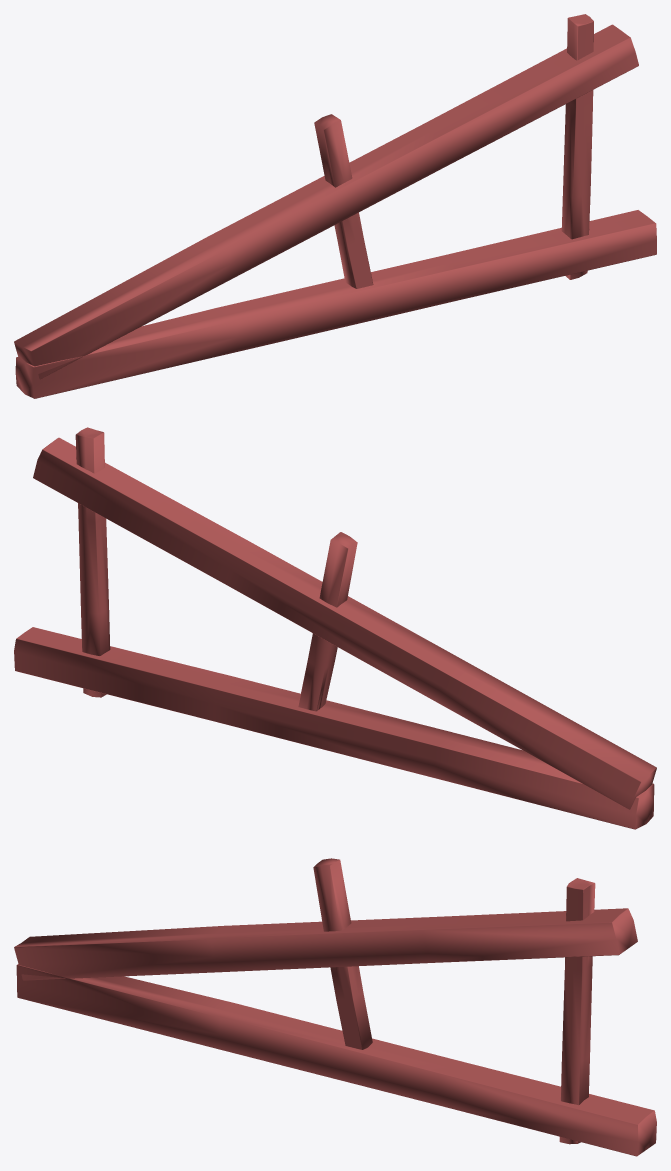
The model's file is Beam_Structure_01_Lod0.fbx.
The picture shows the model from 3 angles, top to bottom: view 1: azimuth 30°, elevation 25°; view 2: azimuth 150°, elevation 25°; view 3: azimuth 330°, elevation 25°; orthographic projection. The views are drawn at different scales.
Visible parts, largest first — view 1: Beam_Structure_01_Lod0; view 2: Beam_Structure_01_Lod0; view 3: Beam_Structure_01_Lod0.
Part boxes in pixels (x1=…): Beam_Structure_01_Lod0: x1=14, y1=14, x2=656, y2=398; Beam_Structure_01_Lod0: x1=14, y1=427, x2=656, y2=829; Beam_Structure_01_Lod0: x1=14, y1=858, x2=656, y2=1156.
Bounding box in the file's own units: 625 × 245 × 44.75.
